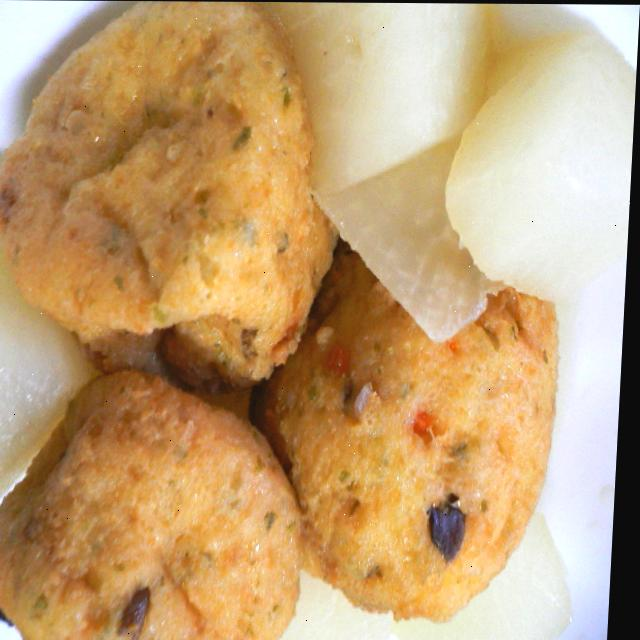熟制海鲜: (0, 0, 606, 640)
